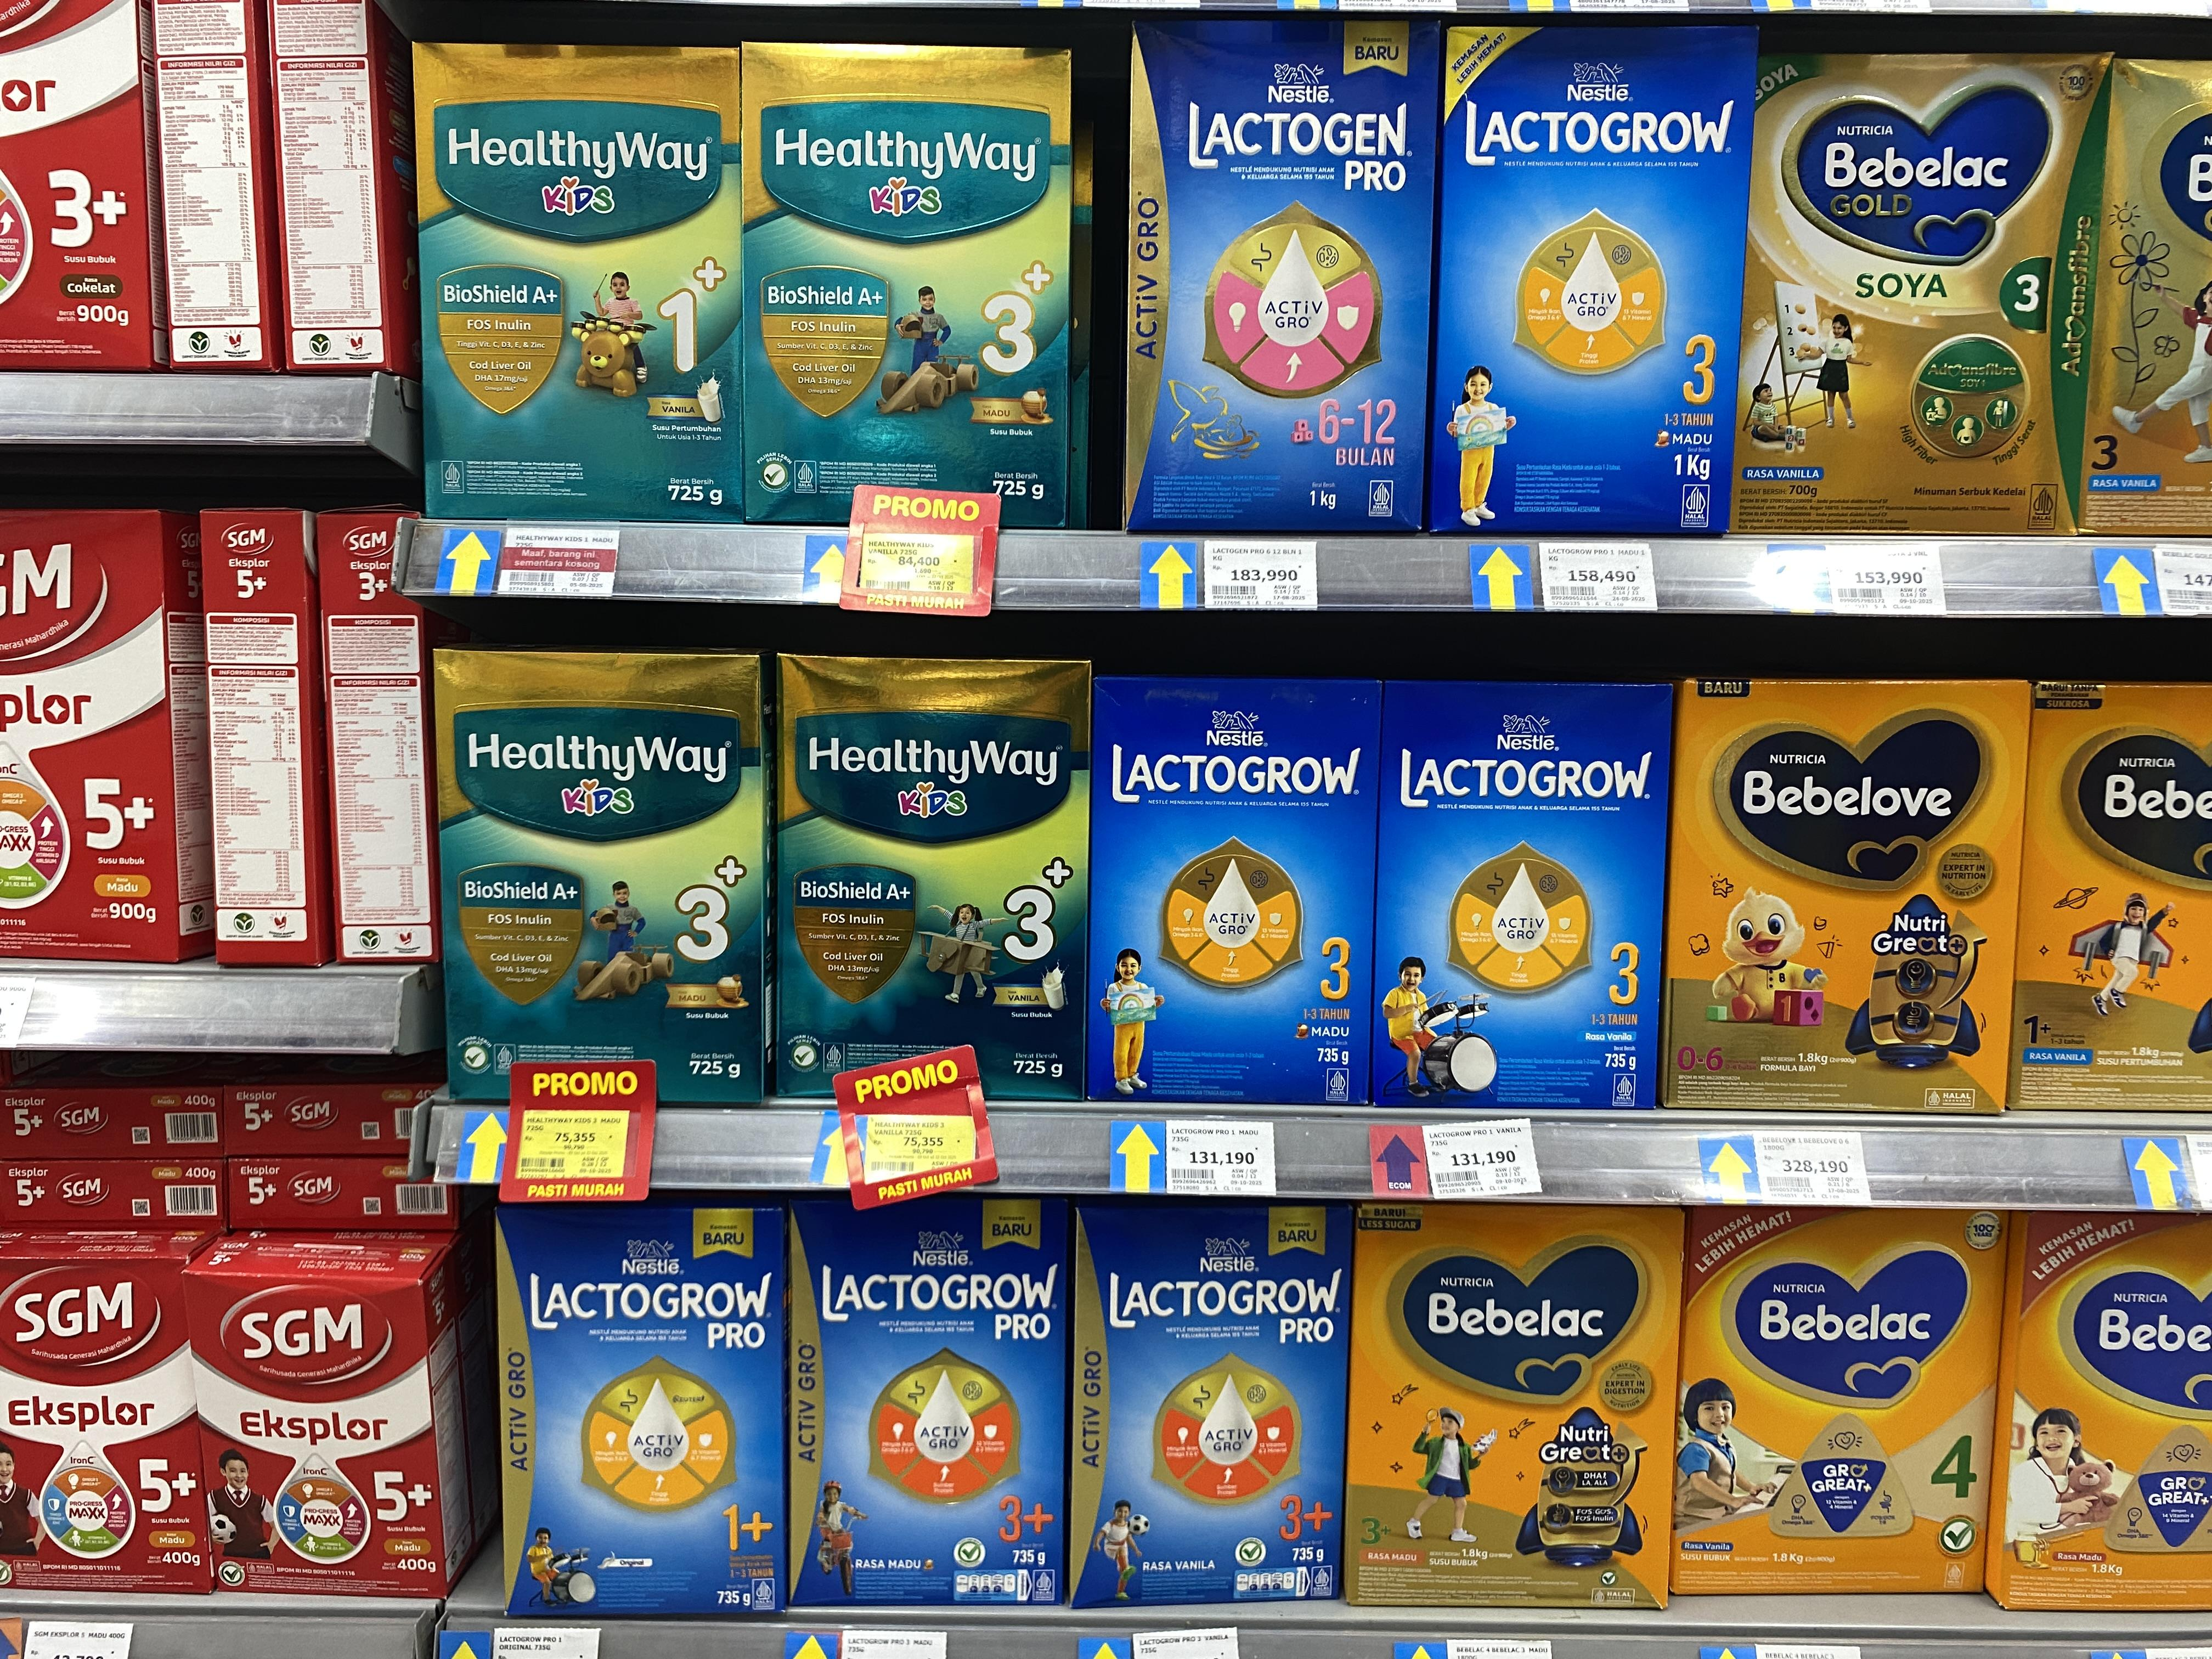LACTOGEN PRO 6-12 mo 12x1kg ID: (1428, 23, 1763, 533), (1111, 12, 1430, 528), (1371, 688, 1672, 1112)
LACTOGROW 3 Happynutri Honey 12x750g N1 ID_REDESIGN2: (1371, 687, 1676, 1110)
